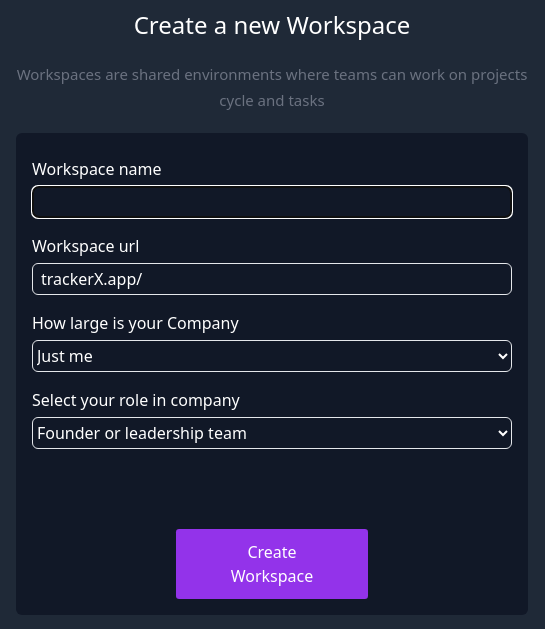
Test case: WorkPage Component › updates workspace URL when workspace name changes
The width and height of the screenshot is (545, 629).
Simulate user entering workspace name
Type "myWorkspace" into the field with test id "textbox1" at (272, 202), box [32,186,512,218]
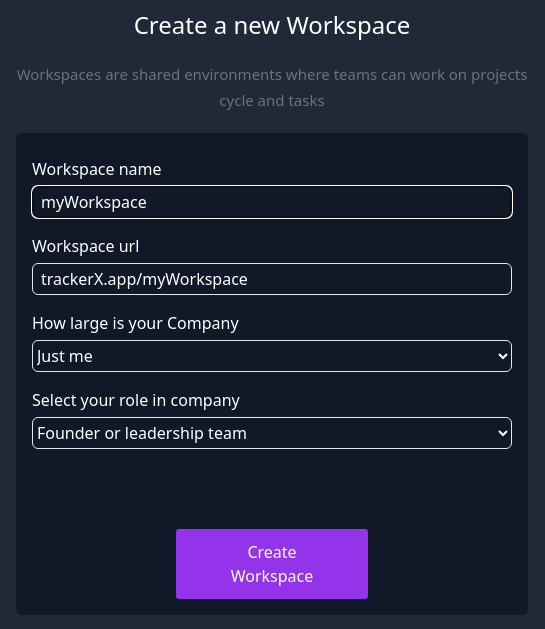
Check: the field with test id "textbox2" holds "trackerX.app/myWorkspace", box [32,263,512,295]
